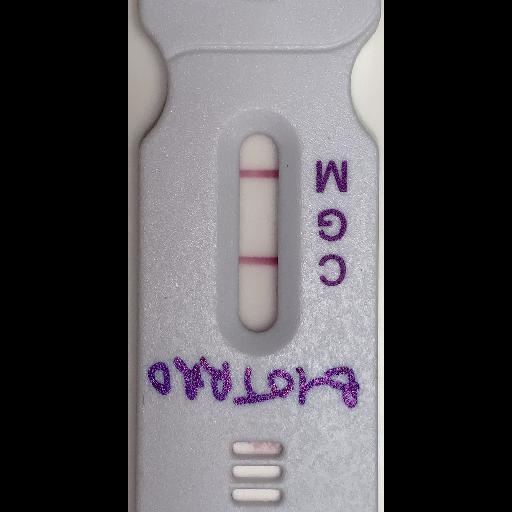Pos: (136, 0, 384, 511)
